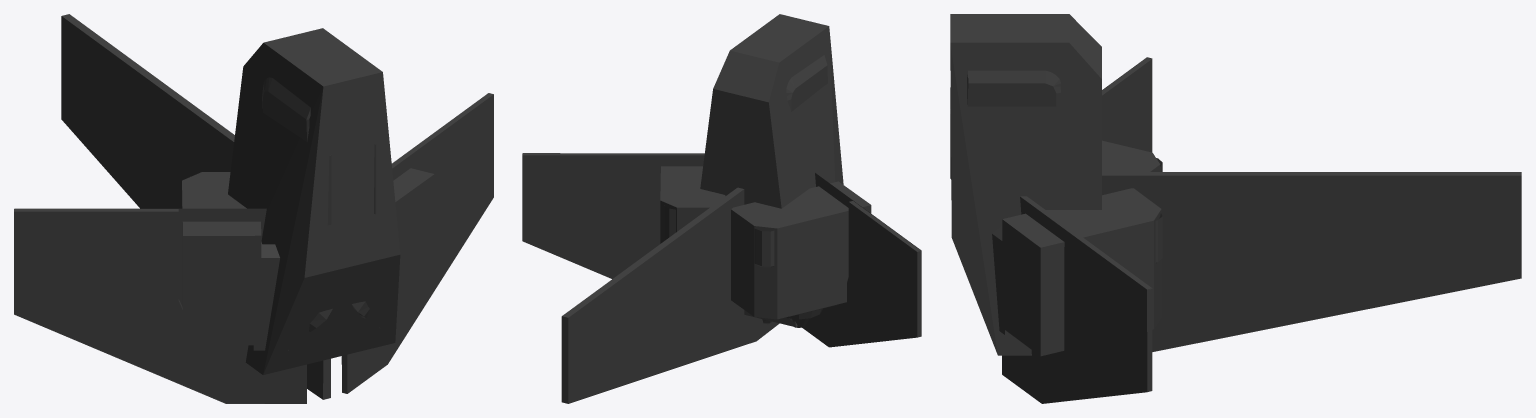
3 renders of one model, left to right at view 1: azimuth 30°, elevation 25°; view 2: azimuth 150°, elevation 25°; view 3: azimuth 270°, elevation 25°, orthographic. The views are drawn at different scales.
Parts seen in each view (by area): view 1: world; view 2: world; view 3: world.
Boxes of the visible parts, <box> form: world: <box>14,14,493,403</box>; world: <box>522,14,921,403</box>; world: <box>950,14,1521,403</box>.
Size of the model in its own units: 7.25 by 4.91 by 7.54.
Materials: 1 (1 with a texture image).
